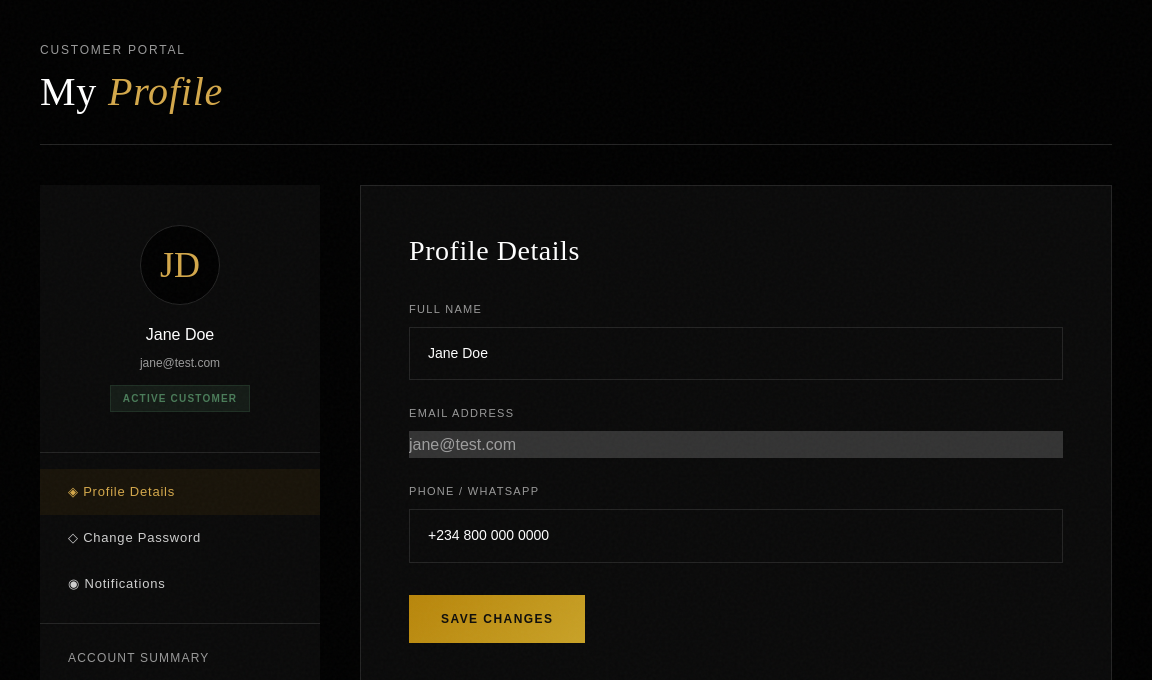
it: ProfilePageContent › notifications tab › renders NotificationPreferencesForm when notifications tab is active
The width and height of the screenshot is (1152, 680).
Click the button "◉ Notifications".
click(117, 584)  # box top-left (40, 561), bottom-right (320, 607)
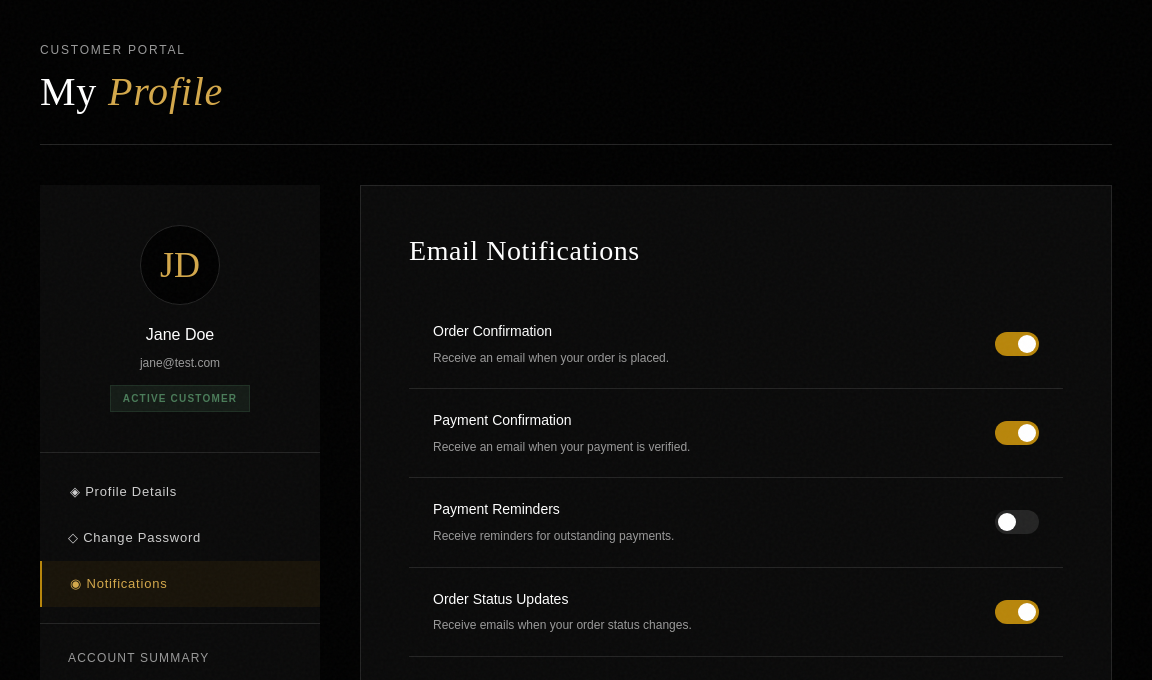
Check: the heading "Email Notifications" is shown, box top-left (409, 235), bottom-right (640, 266)
